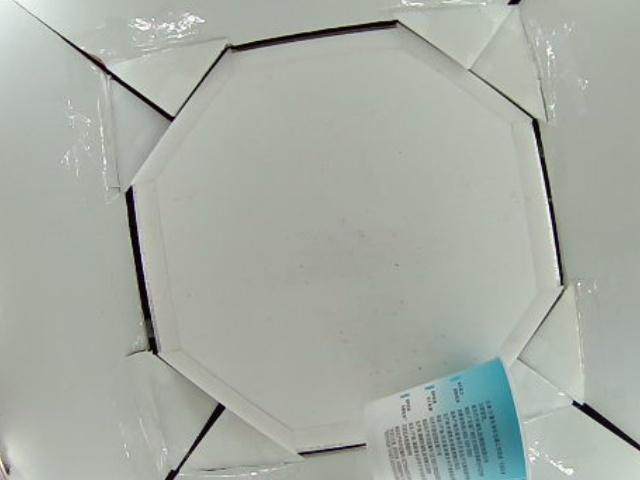Cup: (365, 356, 531, 480)
